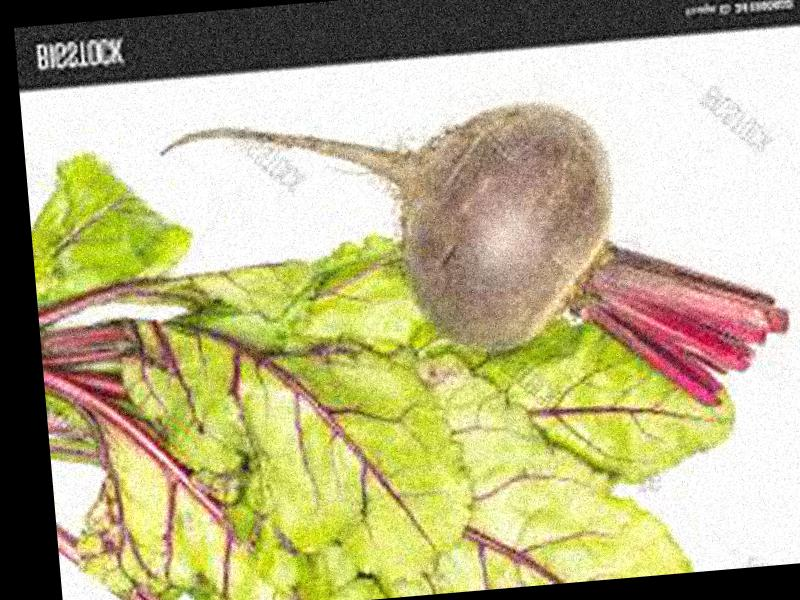Beet: (159, 81, 796, 450)
